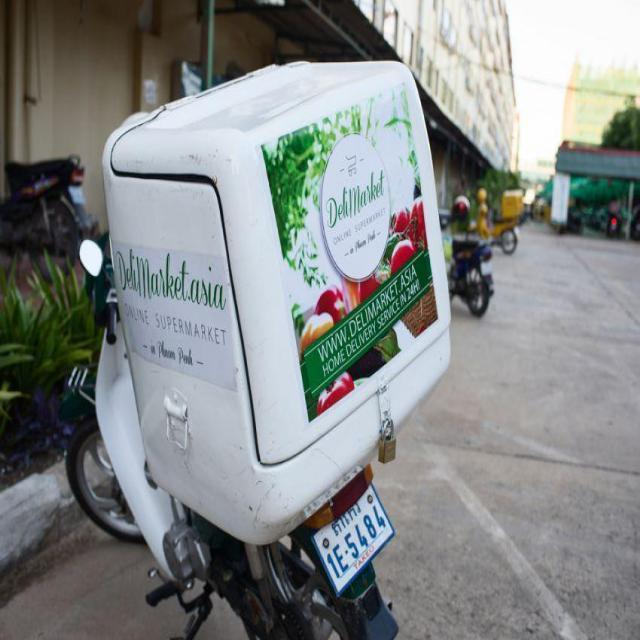Takeo: (331, 499, 361, 536)
